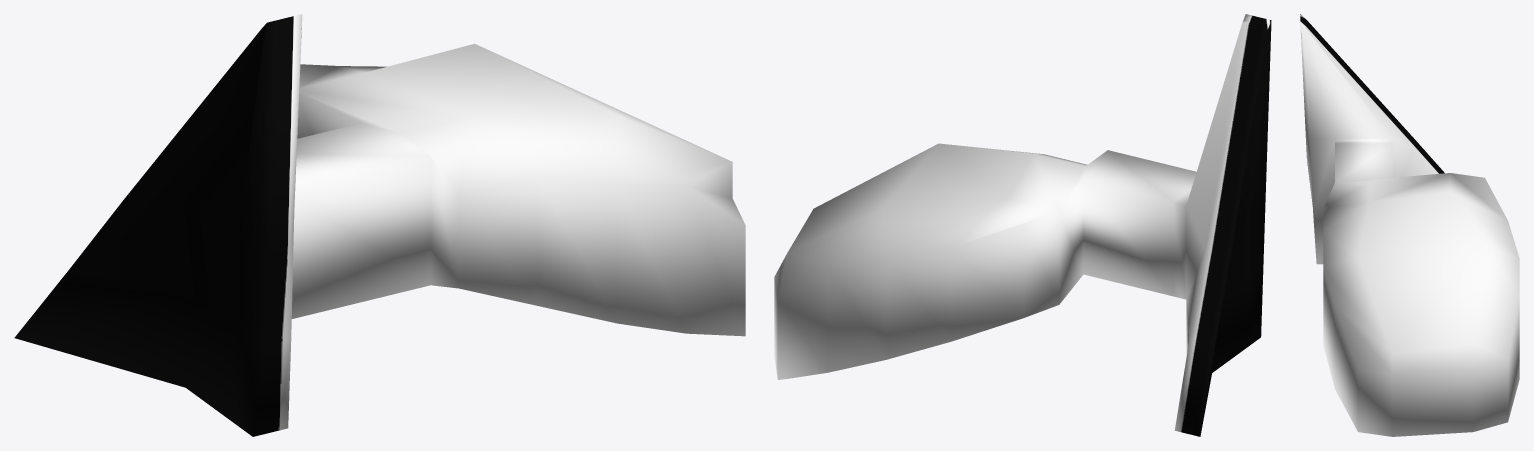
Rendered from Car 1A Mirror L.fbx.
3 views of the same model, side by side, from view 1: azimuth 30°, elevation 25°; view 2: azimuth 150°, elevation 25°; view 3: azimuth 270°, elevation 25° (orthographic). The views are drawn at different scales.
Visible parts, largest first — view 1: 1AU Mirror L (3, Baked); view 2: 1AU Mirror L (3, Baked); view 3: 1AU Mirror L (3, Baked).
Boxes of the visible parts, left/top/right/bottom form: 1AU Mirror L (3, Baked): left=14, top=14, right=745, bottom=436; 1AU Mirror L (3, Baked): left=774, top=14, right=1271, bottom=436; 1AU Mirror L (3, Baked): left=1300, top=14, right=1519, bottom=436.
Bounding box in the file's own units: 35.4 × 26 × 19.
